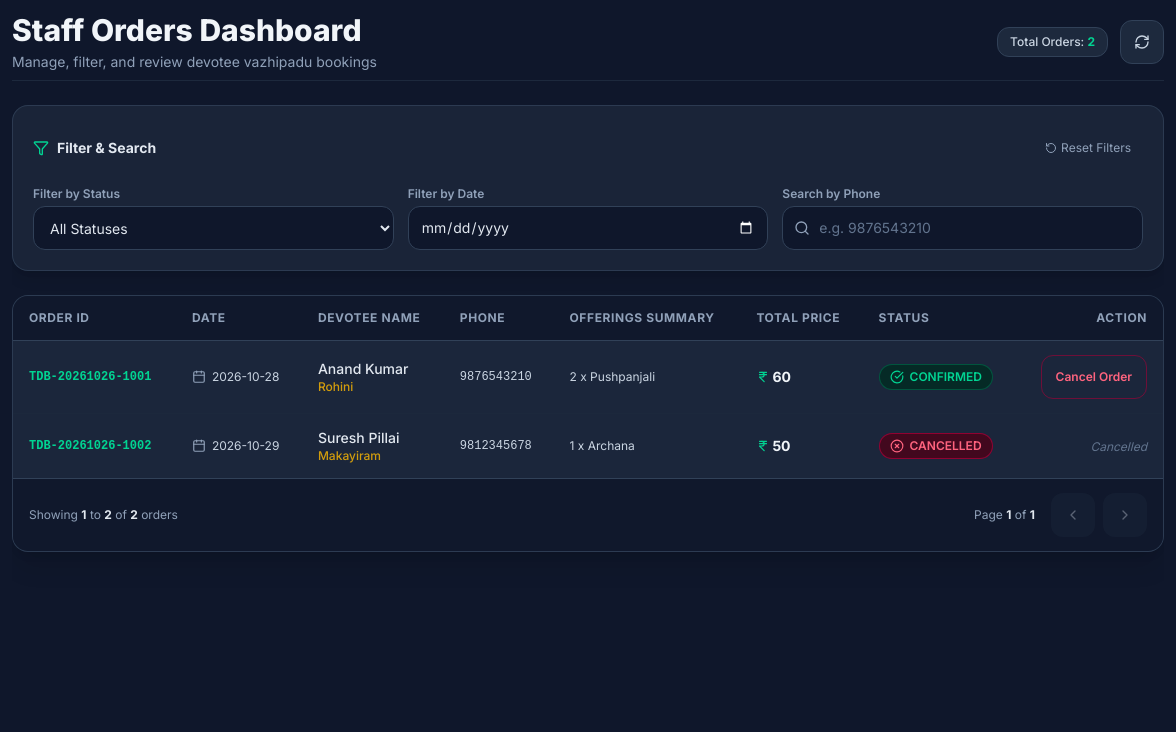
Test: Phase 4: Staff Orders Management Dashboard › filtering by status CANCELLED updates displayed list and resets page to 1
The width and height of the screenshot is (1176, 732).
expect the text "TDB-20261026-1001" is shown: met, box [13,340,176,414]
Select "CANCELLED" in the dropdown labelled "Filter by Status" at (213, 228), box [33,206,394,250]
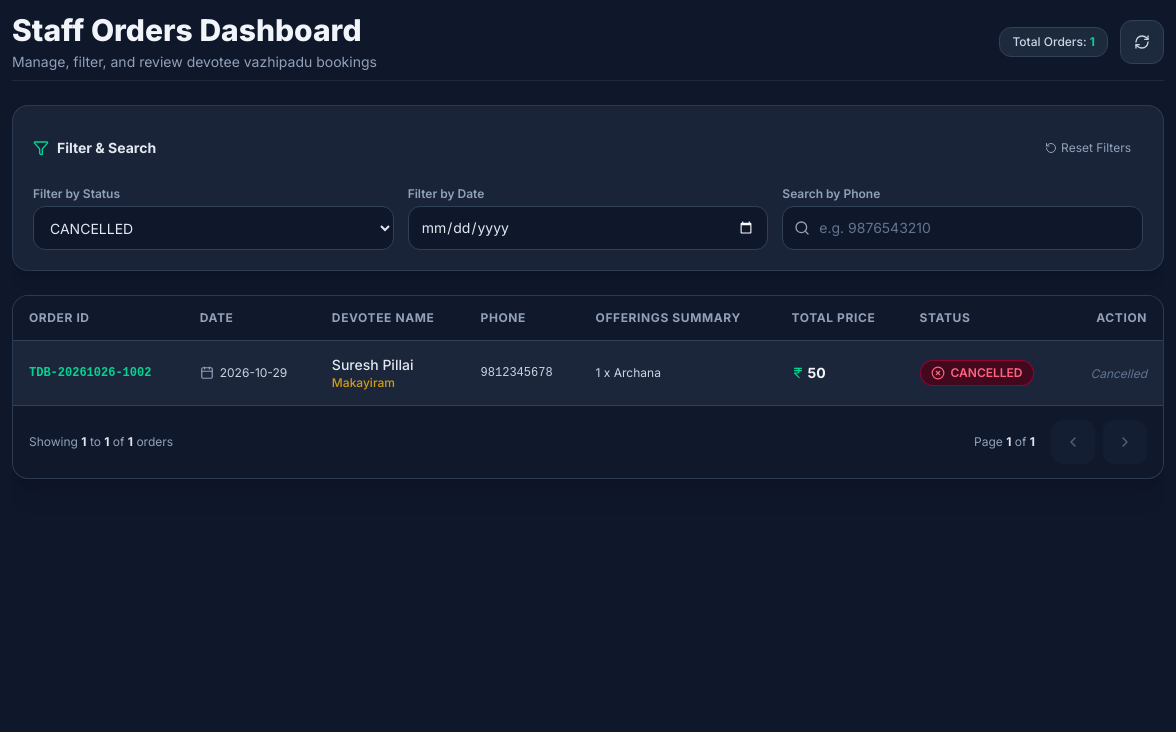
expect the text "TDB-20261026-1002" is shown: met, box [13,340,184,405]
expect the text "TDB-20261026-1001" is gone: met
